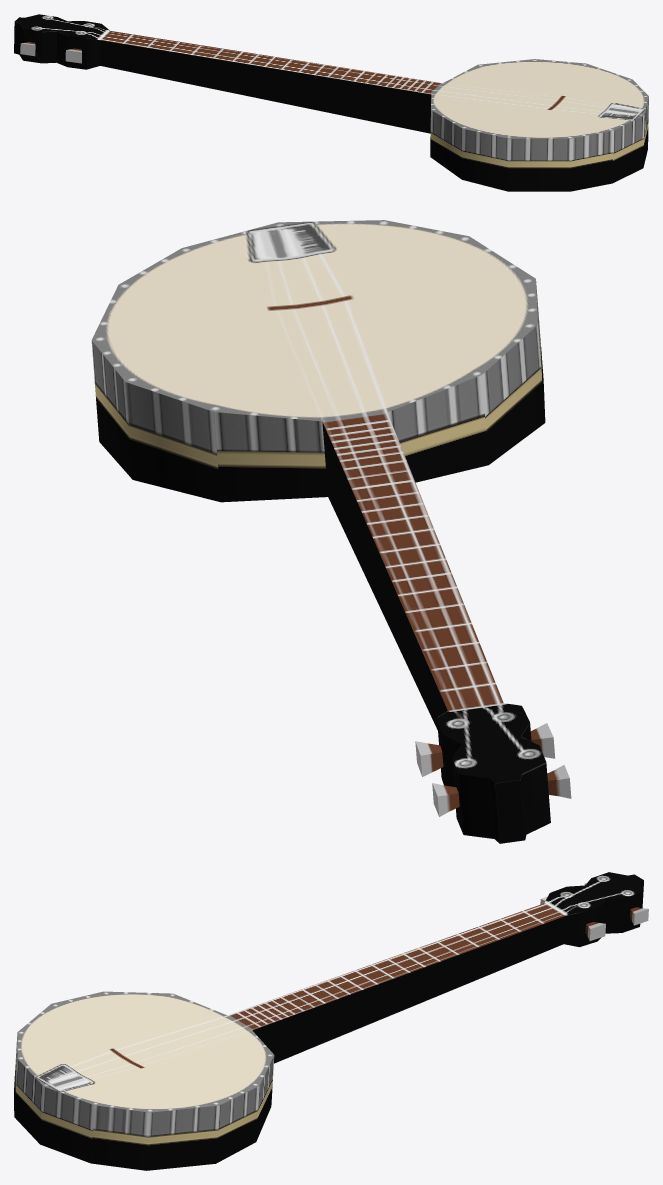
The model's file is Guitarra1_000017.obj.
3 renders of one model, top to bottom at view 1: azimuth 30°, elevation 25°; view 2: azimuth 150°, elevation 25°; view 3: azimuth 270°, elevation 25°, orthographic. The views are drawn at different scales.
Parts seen in each view (by area): view 1: g1_pCube6; view 2: g1_pCube6; view 3: g1_pCube6.
Part boxes in pixels (left/top/right/bottom): g1_pCube6: left=14, top=14, right=648, bottom=191; g1_pCube6: left=91, top=220, right=571, bottom=843; g1_pCube6: left=14, top=872, right=648, bottom=1170.
Size of the model in its own units: 9.69 by 1.45 by 10.94.
